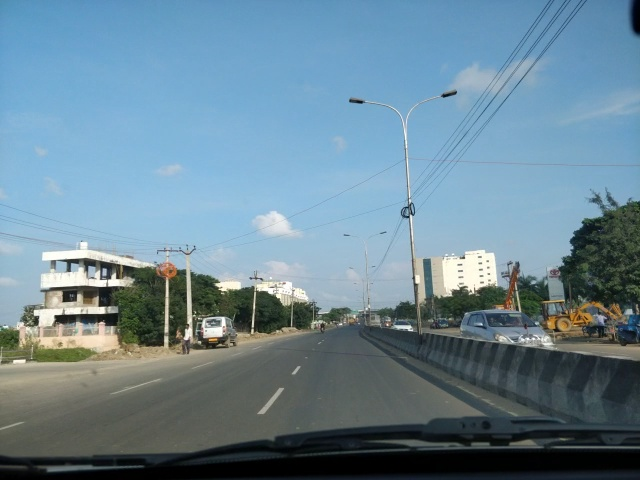car: (459, 309, 556, 355), (199, 315, 239, 351), (390, 319, 416, 335), (428, 317, 448, 329)
motorbike: (318, 318, 328, 335)
person: (182, 323, 195, 357), (595, 308, 608, 338)
tractor: (541, 293, 618, 330)
